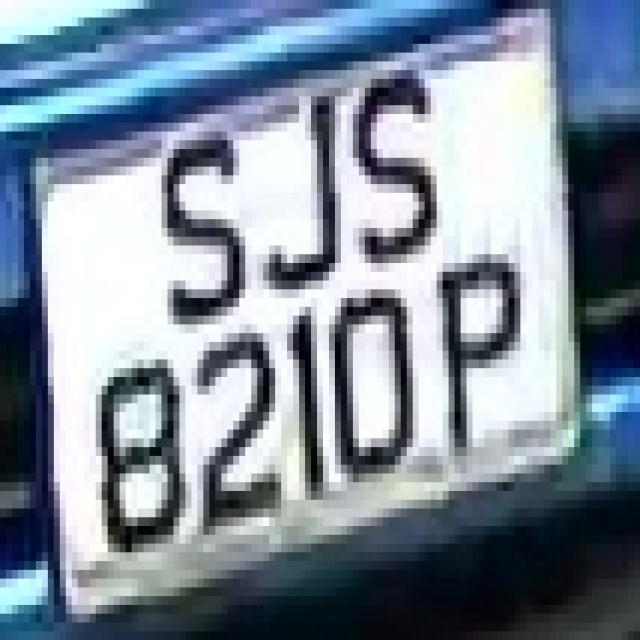0: (323, 263, 425, 491)
1: (263, 298, 323, 526)
2: (180, 298, 281, 526)
8: (72, 333, 191, 579)
J: (251, 79, 359, 324)
P: (431, 254, 532, 491)
S: (144, 114, 263, 324), (353, 62, 443, 280)
